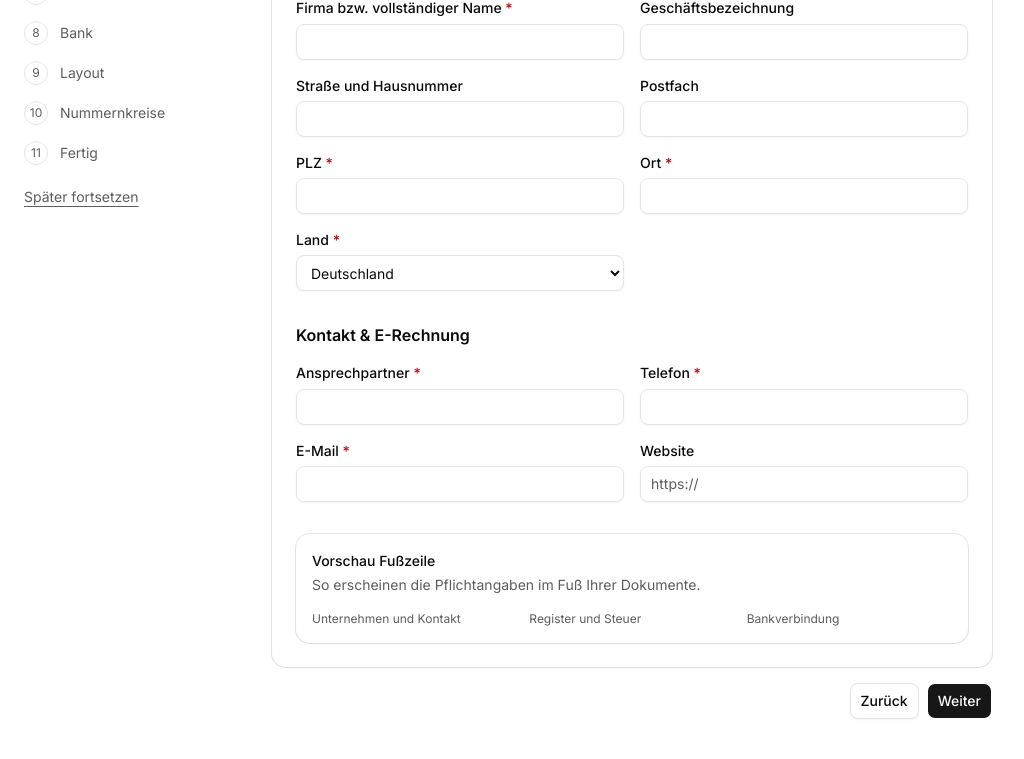
setup wizard (F01 §6.2) › SMOKE invalid company data blocks „Weiter“ with linked German errors
The width and height of the screenshot is (1024, 759).
(page scrolled)
What coordinates should you click on to do the following:
click the button "Weiter"
I would click on:
 (959, 701)
Its box is [927, 683, 992, 719].
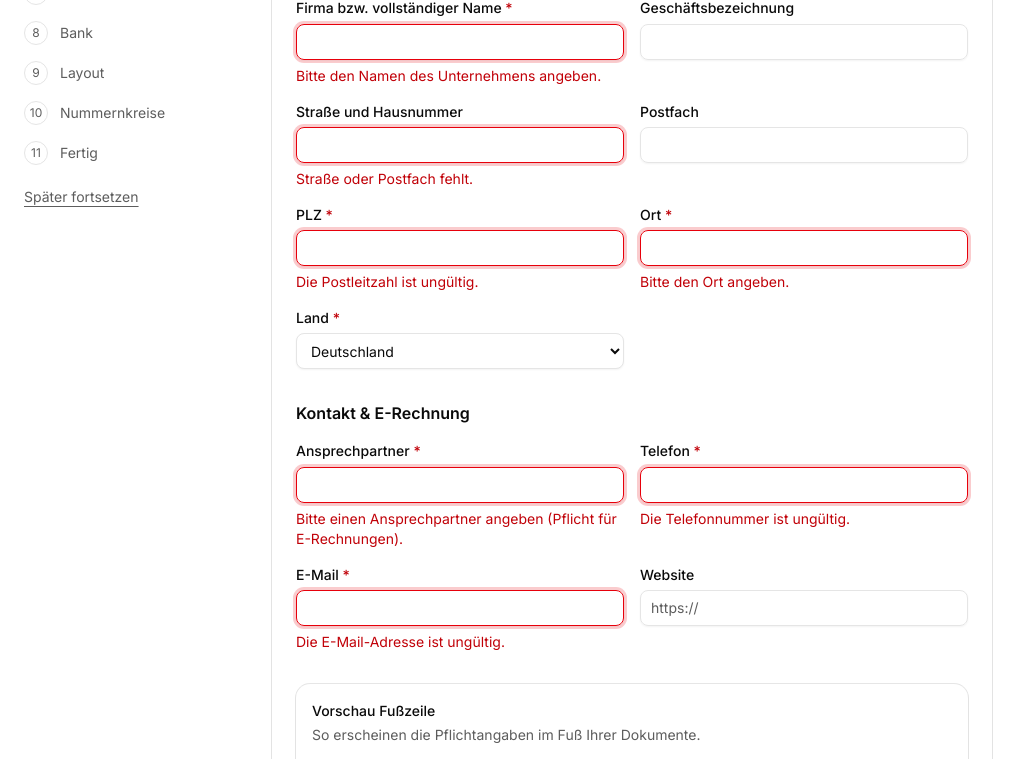
Check: the text "Straße oder Postfach fehlt." is shown, box [296, 170, 473, 187]
